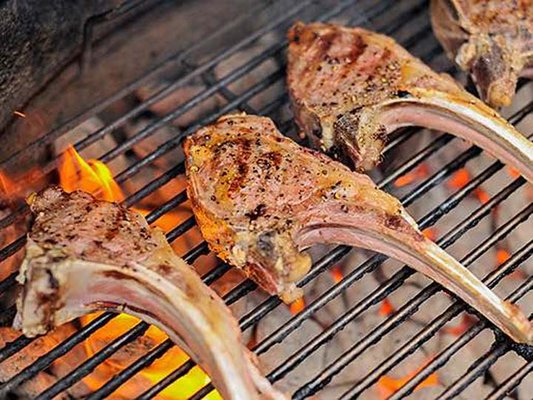soup: (181, 114, 520, 317)
